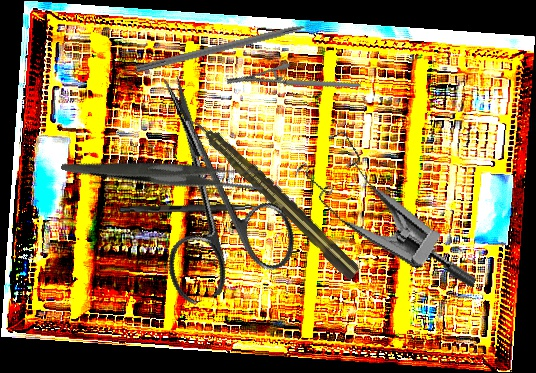Dressing Forceps: (60, 101, 269, 242)
Handpiece: (184, 109, 363, 283)
Hook Surgical: (135, 15, 334, 75), (118, 201, 286, 215)
Iris Scissors: (106, 56, 306, 309)
Needle Holder: (224, 38, 362, 129)
Speculum: (279, 121, 509, 290)
